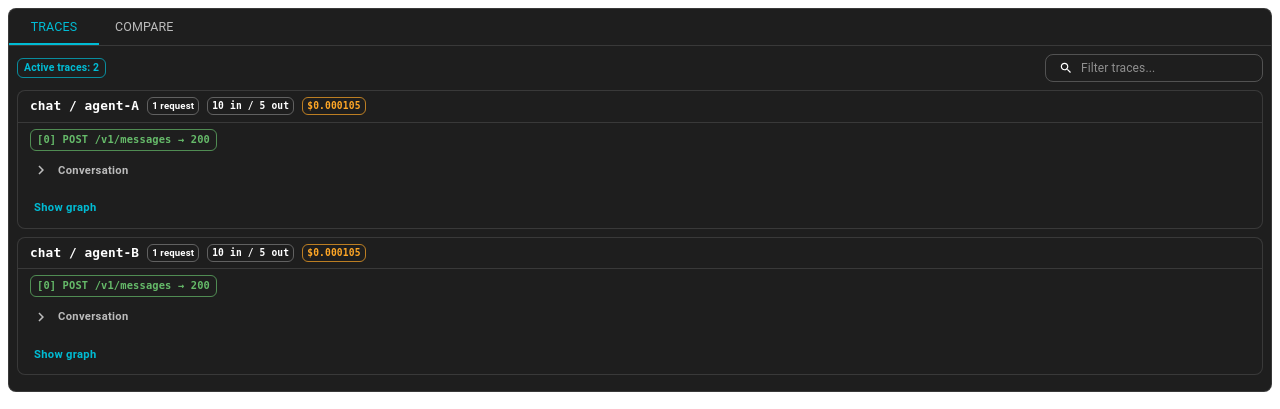
it: SessionInspector › search box filters sessions
expect the heading "chat / agent-A" is shown: met, box [30,97,139,116]
expect the heading "chat / agent-B" is shown: met, box [30,244,139,262]
# Type in the search box
Step 1. Type "agent-A" into the field with placeholder "Filter traces..." → (1172, 68), box [1081,51,1263,85]
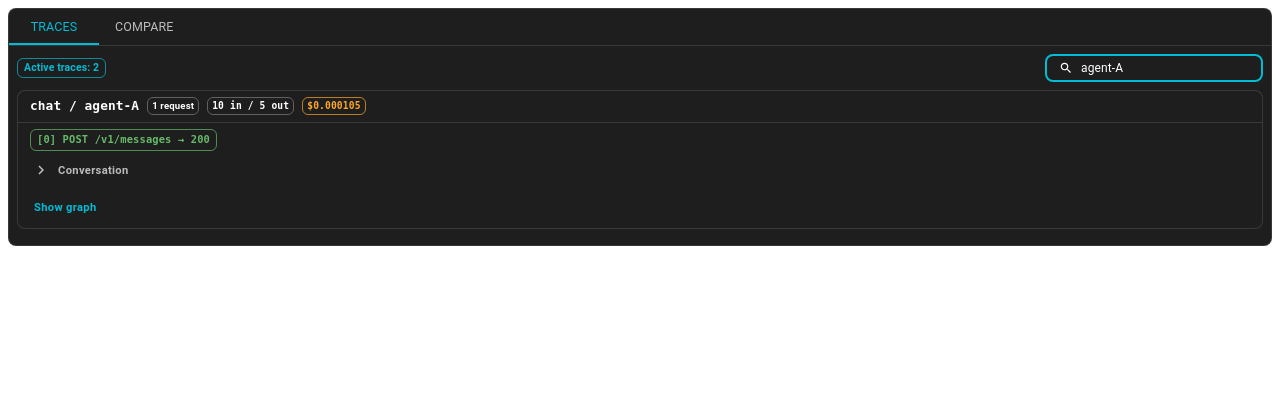
expect the heading "chat / agent-A" is shown: met, box [30,97,139,116]
expect the heading "chat / agent-B" is gone: met
